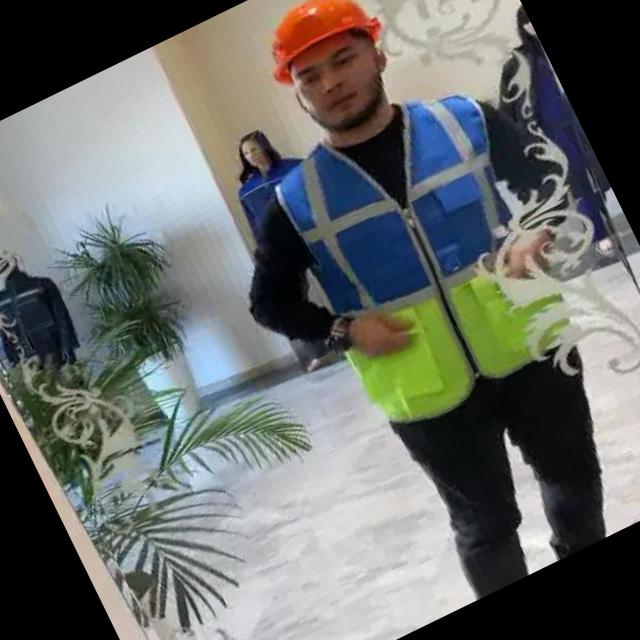hard_hat: (247, 0, 388, 85)
safety_vest: (255, 72, 596, 444)
